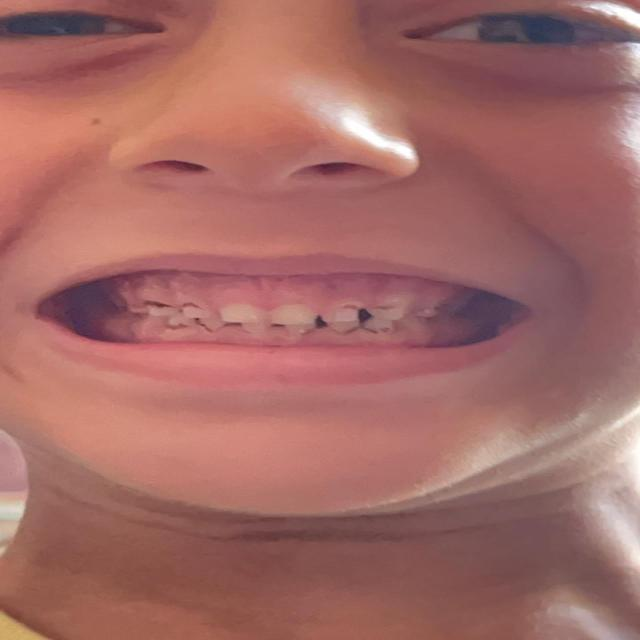tooth: (213, 307, 258, 325), (273, 308, 310, 326), (314, 310, 354, 326), (179, 305, 209, 323), (362, 306, 411, 317), (281, 322, 314, 338), (145, 302, 177, 318), (361, 321, 387, 339), (242, 325, 273, 338), (329, 328, 359, 340), (410, 308, 437, 318), (136, 321, 163, 331), (182, 324, 201, 334)
